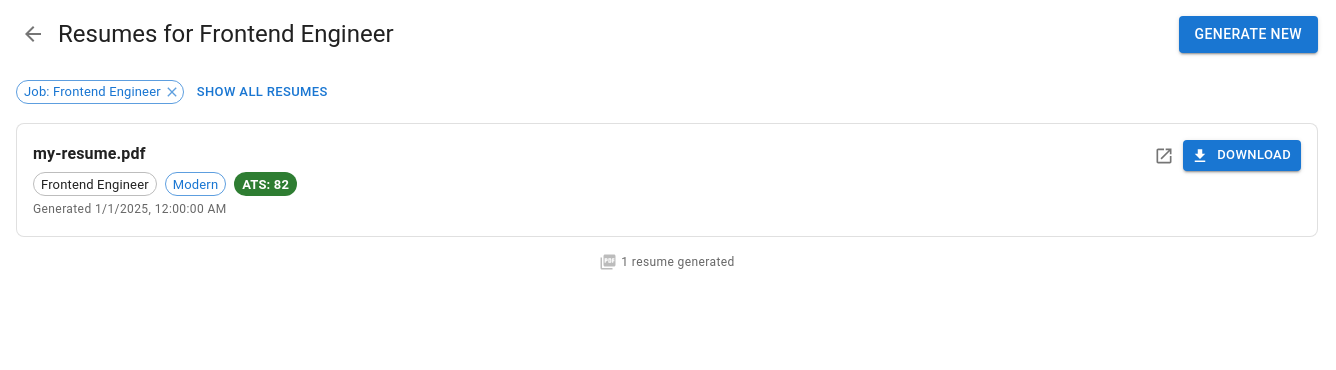
PastResumesPage › clears the job filter when Show all resumes is clicked
This screenshot has width=1336, height=370.
Click the button "Show all resumes".
click(262, 92)  # box [192,76,333,107]
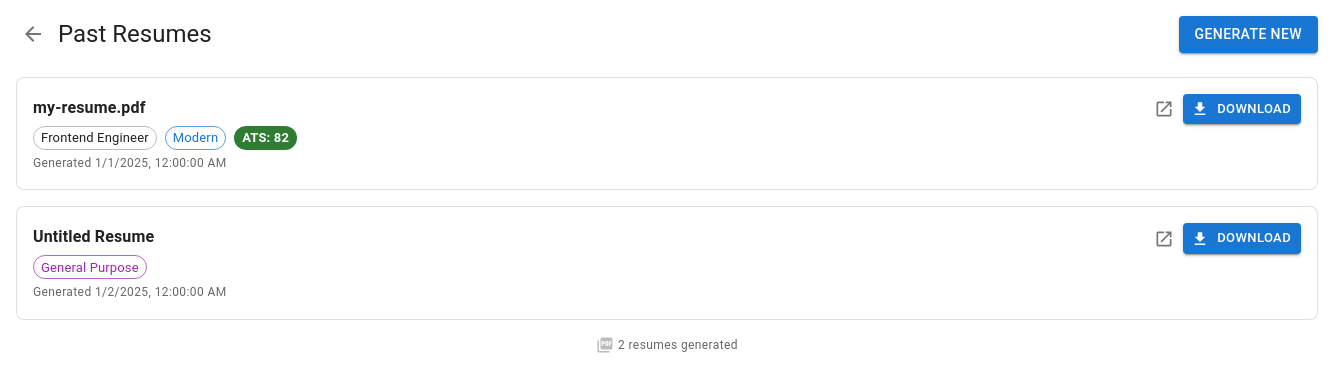
Now the heading "Past Resumes" is shown, box [58,18,212,50]
